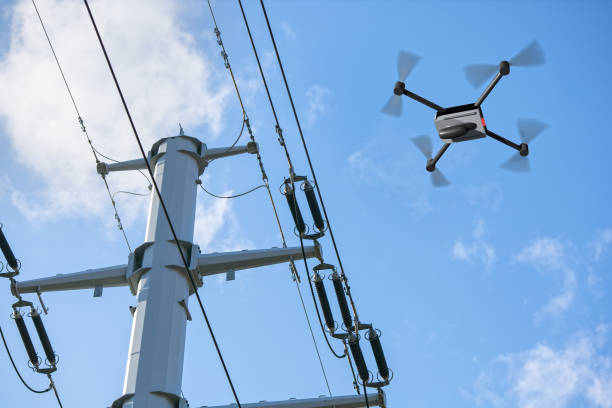Drone: (378, 32, 552, 188)
